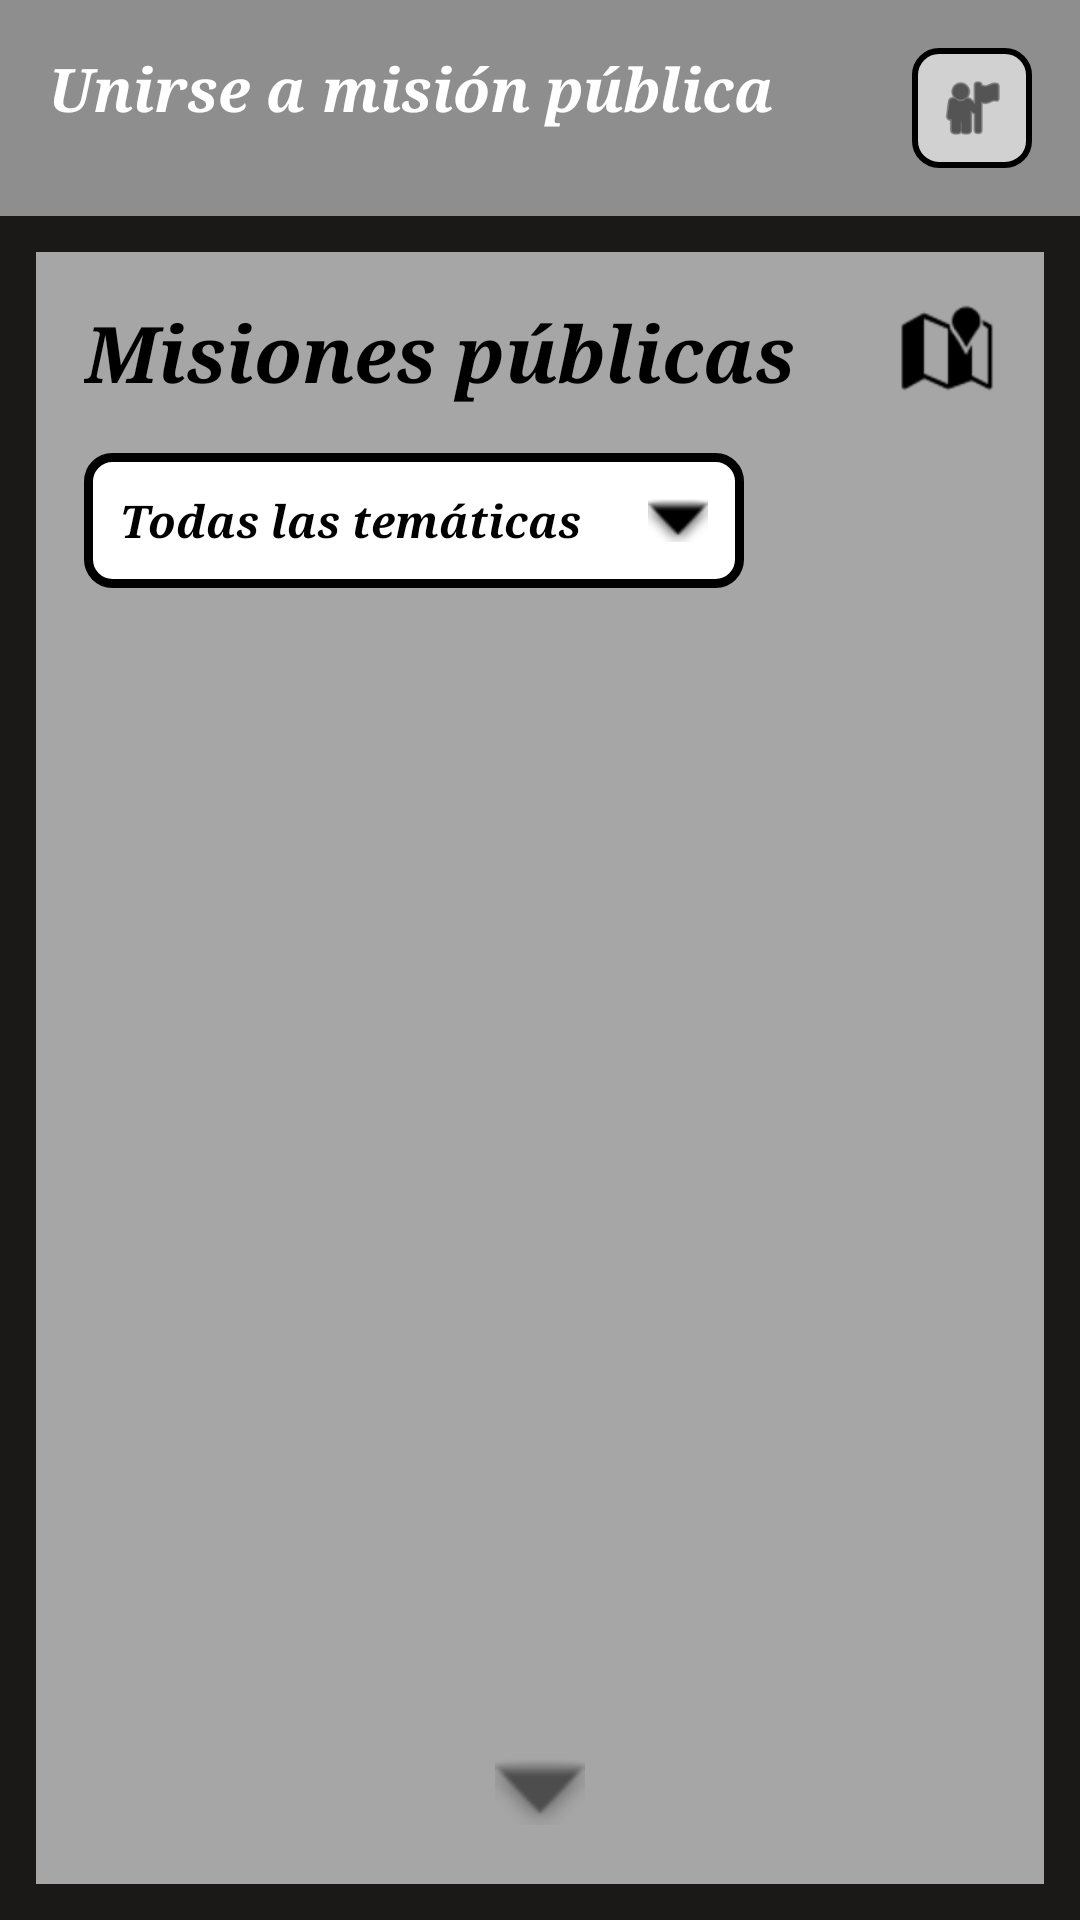

Named icons in this screenshot (1080 x 1920) and their centers, point (x, y):
arrow down float: point (678, 520), point (540, 1789)
map: point (947, 348)
